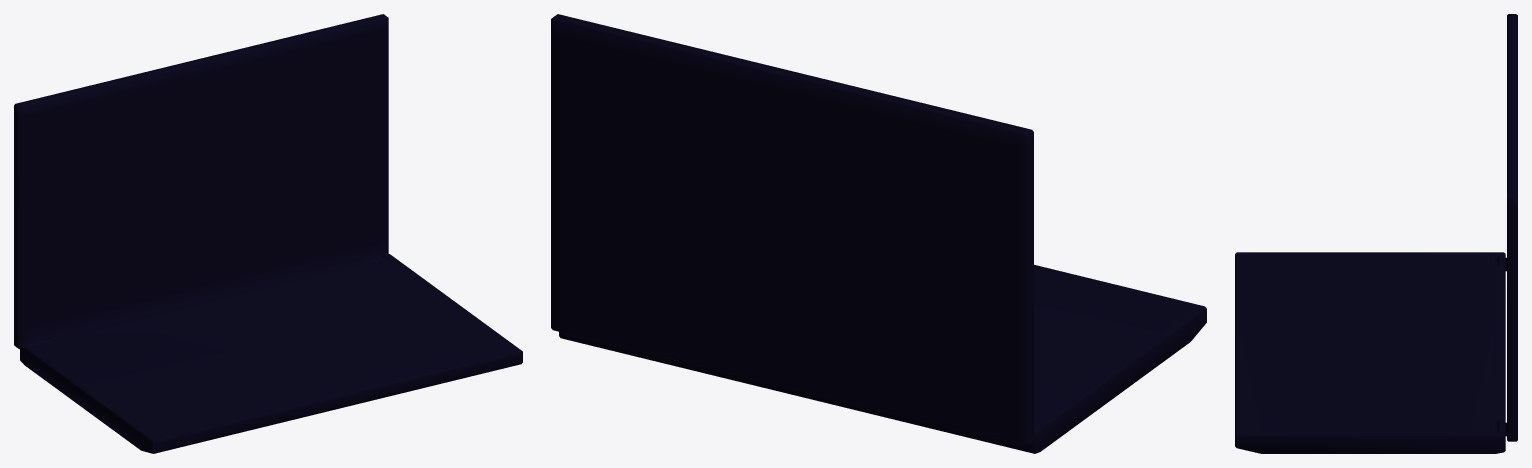
Rendered from uploads_files_2614098_Laptop.fbx.
3 views of the same model, side by side, from view 1: azimuth 30°, elevation 25°; view 2: azimuth 150°, elevation 25°; view 3: azimuth 270°, elevation 25° (orthographic). The views are drawn at different scales.
Visible parts, largest first — view 1: Screen.001, Base; view 2: Screen.001, Base; view 3: Base, Screen.001.
Part boxes in pixels (x1,y1,x2,y2): Screen.001: (14, 14, 388, 349); Base: (20, 254, 522, 453); Screen.001: (551, 14, 1033, 445); Base: (559, 264, 1206, 453); Base: (1235, 252, 1505, 453); Screen.001: (1497, 14, 1517, 441).
Size of the model in its own units: 31.99 by 21.01 by 20.86.
